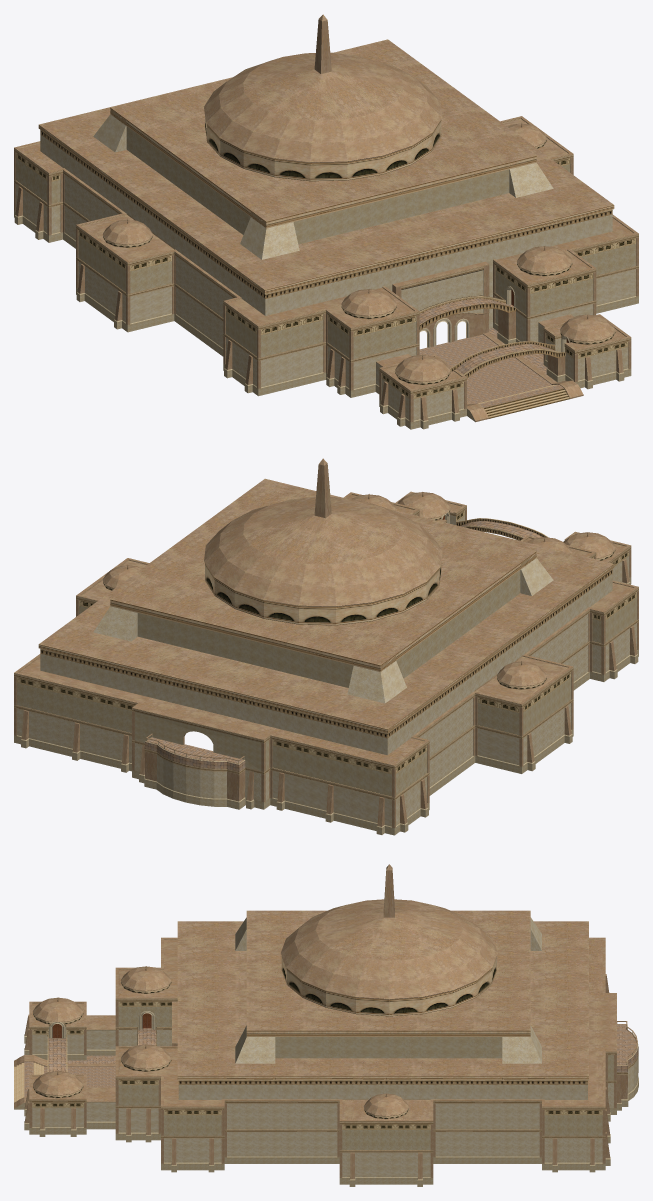
The model's file is mun_tato_capitol_s01_r0_mesh_l0.fbx.
The picture shows the model from 3 angles, top to bottom: view 1: azimuth 30°, elevation 25°; view 2: azimuth 150°, elevation 25°; view 3: azimuth 270°, elevation 25°; orthographic projection. The views are drawn at different scales.
Visible parts, largest first — view 1: mesh_node; view 2: mesh_node; view 3: mesh_node.
Part boxes in pixels (left/top/right/bottom): mesh_node: left=14, top=14, right=638, bottom=429; mesh_node: left=14, top=458, right=638, bottom=835; mesh_node: left=14, top=864, right=638, bottom=1186.
Bounding box in the file's own units: 84.28 × 43.08 × 110.
